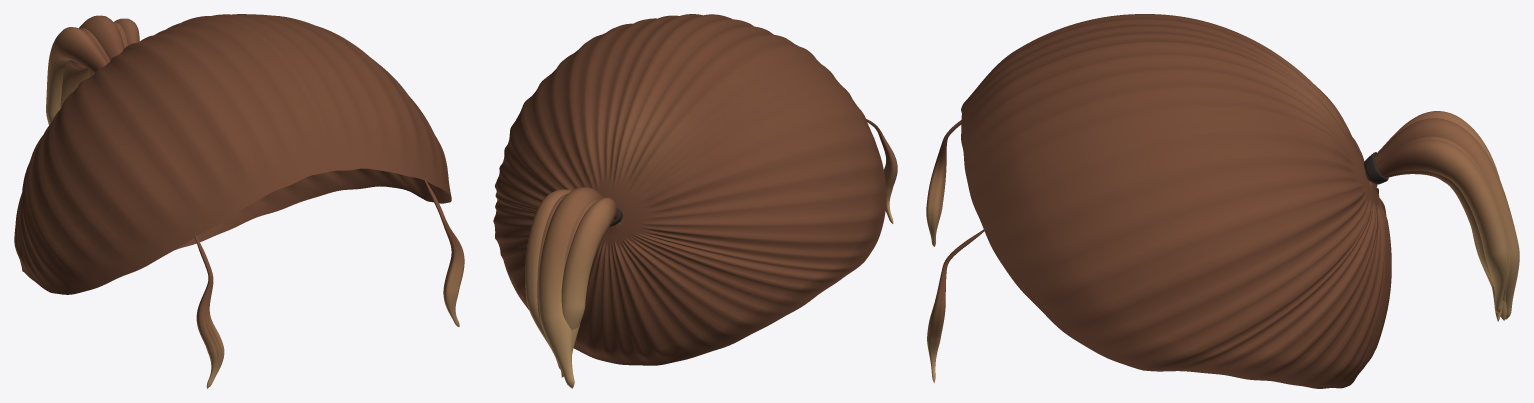
The model's file is ponytail-cap-ombre.glb.
3 renders of one model, left to right at view 1: azimuth 30°, elevation 25°; view 2: azimuth 150°, elevation 25°; view 3: azimuth 270°, elevation 25°, orthographic. The views are drawn at different scales.
Parts seen in each view (by area): view 1: Hair / swept roots220, Hair / rounded tail220 0, Hair / adjustable front216 -1, Hair / adjustable front216 1, Hair / rounded tail220 2, Hair / rounded tail220 1, Hair / rounded tail220 4; view 2: Hair / swept roots220, Hair / rounded tail220 2, Hair / rounded tail220 0, Hair / rounded tail220 4, Hair / adjustable front216 -1, Hair / rounded tail220 1, Hair / rounded tail220 3; view 3: Hair / swept roots220, Hair / rounded tail220 4, Hair / rounded tail220 2, Hair / rounded tail220 3, Hair / adjustable front216 -1, Hair / adjustable front216 1, Hair / rounded tail220 0.
Part boxes in pixels (x1,y1,x2,y2): Hair / swept roots220: (14, 14, 451, 294); Hair / rounded tail220 0: (46, 27, 107, 124); Hair / adjustable front216 -1: (194, 235, 224, 388); Hair / adjustable front216 1: (424, 179, 464, 326); Hair / rounded tail220 2: (79, 15, 124, 77); Hair / rounded tail220 1: (60, 28, 110, 108); Hair / rounded tail220 4: (114, 18, 139, 45); Hair / swept roots220: (493, 14, 886, 365); Hair / rounded tail220 2: (538, 187, 603, 388); Hair / rounded tail220 0: (560, 197, 618, 377); Hair / rounded tail220 4: (525, 189, 571, 369); Hair / adjustable front216 -1: (866, 119, 897, 223); Hair / rounded tail220 1: (563, 198, 599, 384); Hair / rounded tail220 3: (537, 193, 567, 328); Hair / swept roots220: (961, 14, 1391, 388); Hair / rounded tail220 4: (1365, 140, 1508, 312); Hair / rounded tail220 2: (1364, 118, 1519, 319); Hair / rounded tail220 3: (1365, 136, 1509, 301); Hair / adjustable front216 -1: (926, 120, 961, 246); Hair / adjustable front216 1: (927, 228, 985, 382); Hair / rounded tail220 0: (1376, 111, 1502, 321).
Size of the model in its own units: 0.779 by 0.5787 by 0.9439.
Materials: 9 (8 with a texture image).
